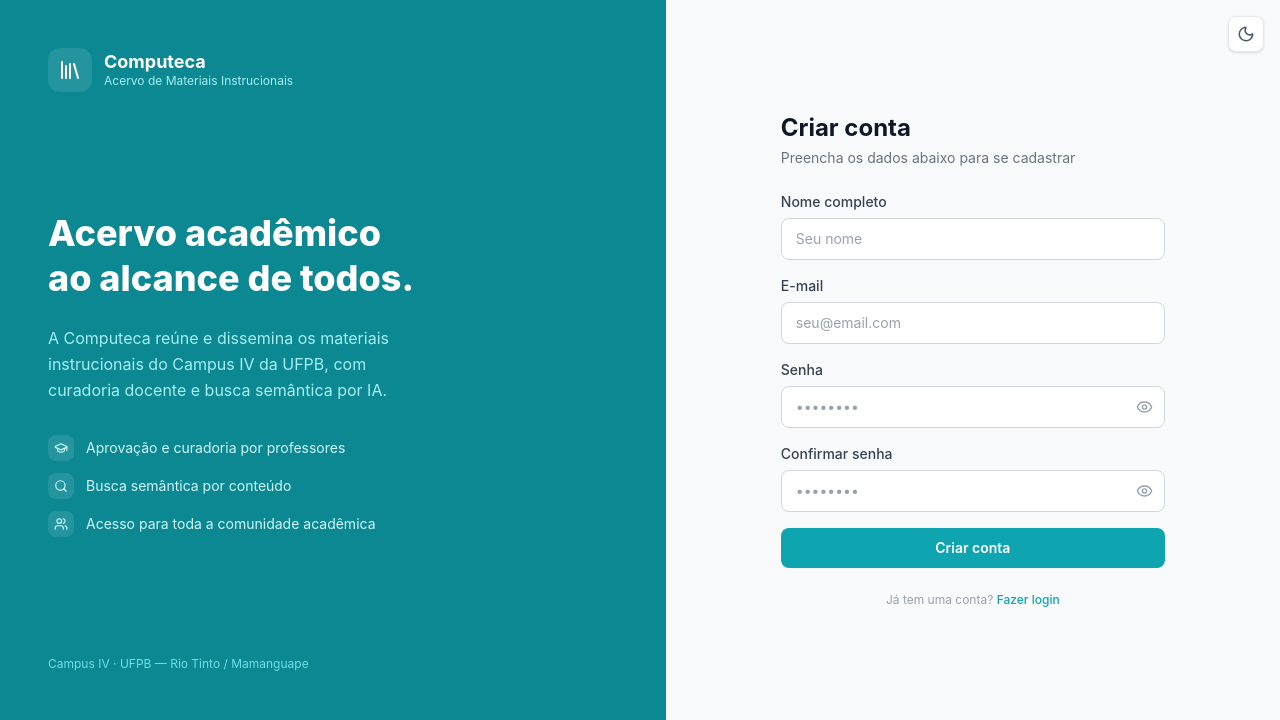
RegisterPage › mostra erros de validação ao submeter vazio
The image size is (1280, 720).
Click the button "Criar conta" at (973, 548), box [781, 528, 1165, 568]
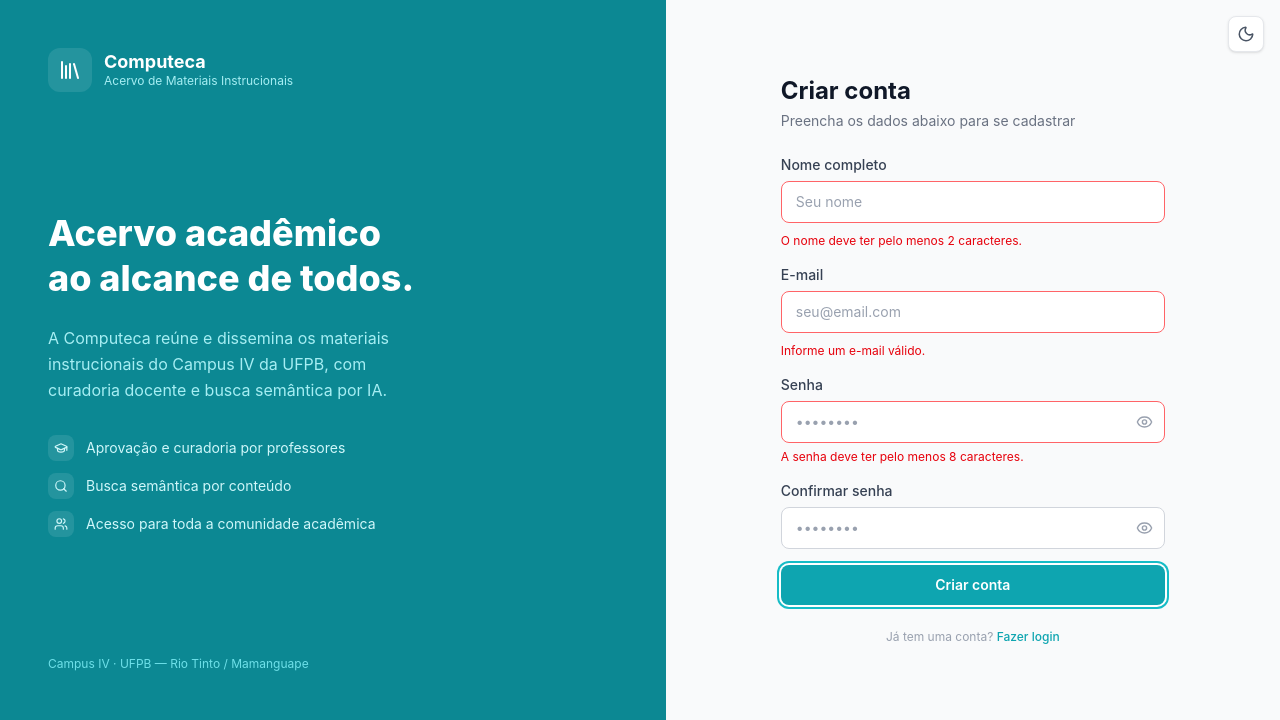
Expected: the text "O nome deve ter pelo menos 2 caracteres." is shown, [781, 233, 1022, 248]
Expected: the text "Informe um e-mail válido." is shown, [781, 343, 925, 358]
